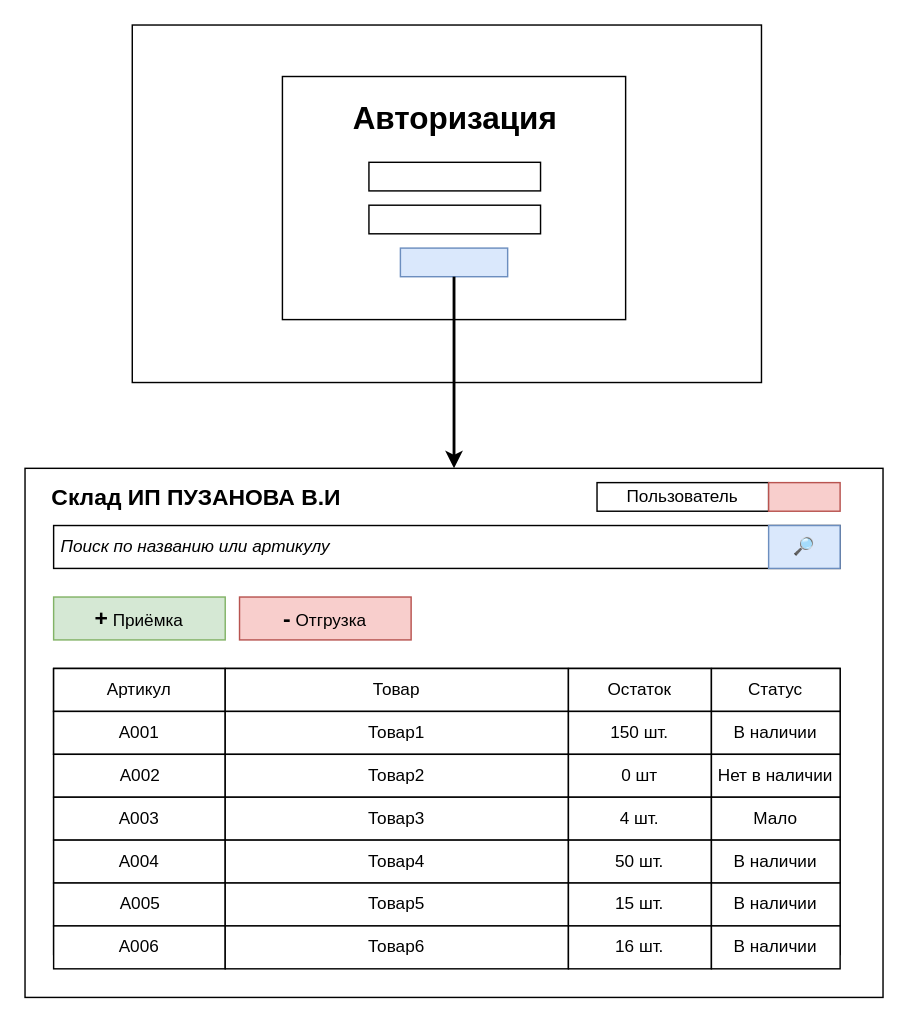
Some shapes in this 908 by 1022 pixel diagram are drawn without their labels. The shapes that lost their labels are listed below. From the top down, each one's centre as x and y in pixels, then its label:
point (453, 262): Войти
point (803, 496): Выйти
